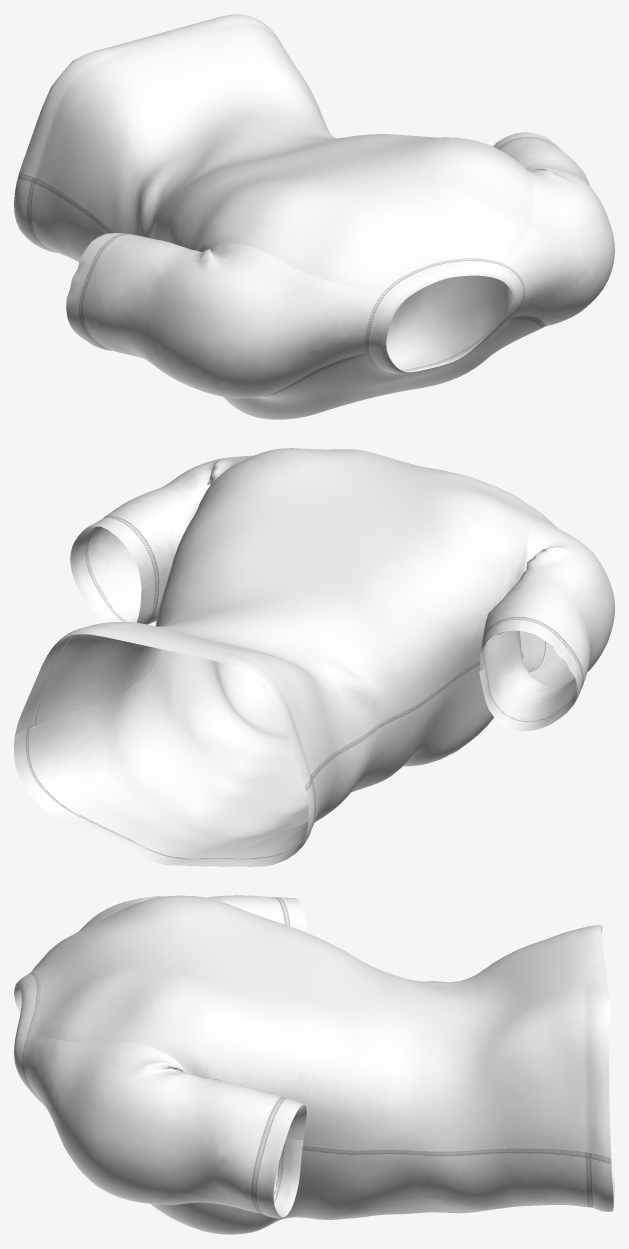
File: texture-stitch-rashguard-2.glb
3 views of the same model, one above another, from view 1: azimuth 30°, elevation 25°; view 2: azimuth 150°, elevation 25°; view 3: azimuth 270°, elevation 25° (orthographic).
Visible parts, largest first — view 1: Back, Right Sleeve, Left Sleeve, Front, Front_Lining, Neck Band; view 2: Back, Front_Lining, Front, Right Sleeve, Left Sleeve, Back_Lining, Right Sleeve_Lining, Left Sleeve_Lining; view 3: Back, Left Sleeve, Front, Right Sleeve, Neck Band.
Boxes of the visible parts, x1,y1,x2,y2 form: Back: (19, 14, 533, 291); Right Sleeve: (66, 233, 382, 398); Left Sleeve: (493, 132, 614, 326); Front: (14, 172, 545, 419); Front_Lining: (106, 226, 512, 369); Neck Band: (364, 258, 525, 373); Back: (15, 448, 533, 785); Front_Lining: (28, 631, 544, 858); Front: (14, 641, 546, 866); Right Sleeve: (479, 505, 614, 731); Left Sleeve: (70, 455, 253, 624); Back_Lining: (35, 552, 526, 725); Right Sleeve_Lining: (484, 630, 576, 721); Left Sleeve_Lining: (88, 526, 141, 622); Back: (31, 895, 611, 1158); Left Sleeve: (24, 1031, 306, 1218); Front: (151, 1106, 614, 1234); Right Sleeve: (30, 895, 306, 972); Neck Band: (14, 972, 45, 1107).
Bounding box in the file's own units: 0.6431 × 0.3011 × 0.6448.
Materials: 9 (8 with a texture image).
